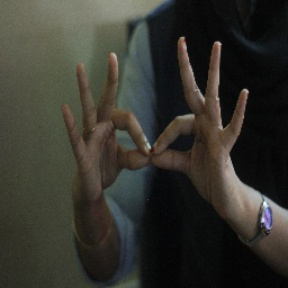B: (95, 88, 216, 179)
